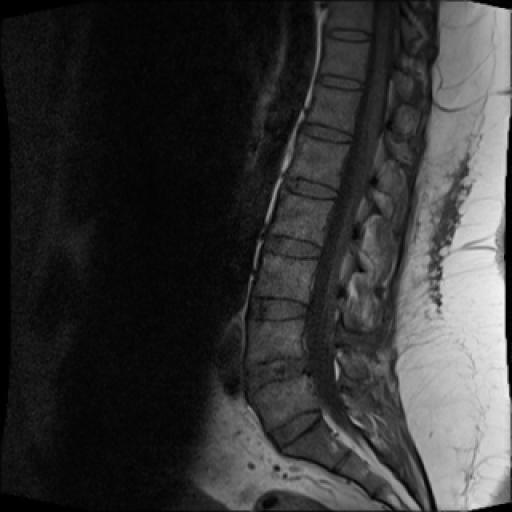L1: (288, 127, 351, 190)
L2: (270, 192, 333, 244)
L3: (254, 254, 317, 304)
L4: (247, 312, 305, 364)
L5: (250, 374, 319, 432)
S1: (282, 419, 349, 471)
